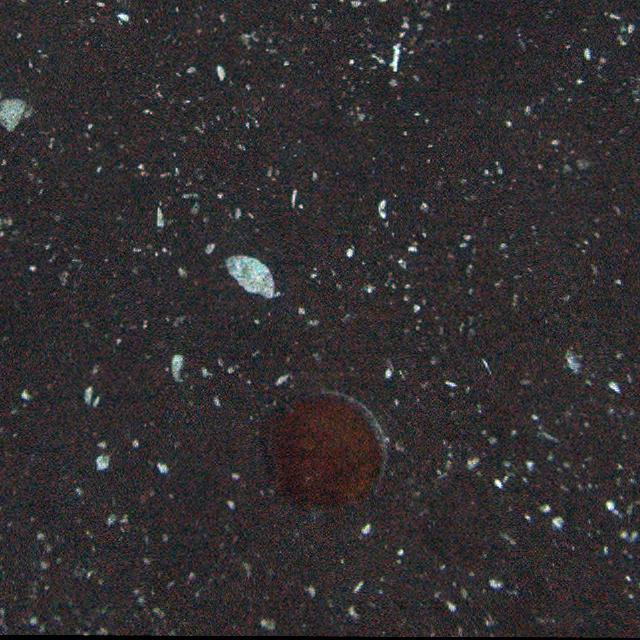scallop: (271, 396, 386, 509)
